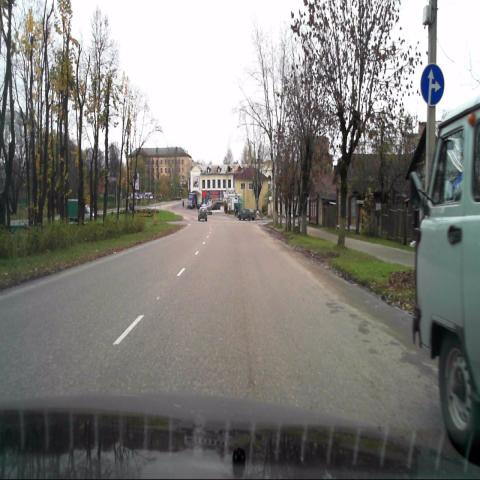4_1_4: (420, 63, 445, 106)
